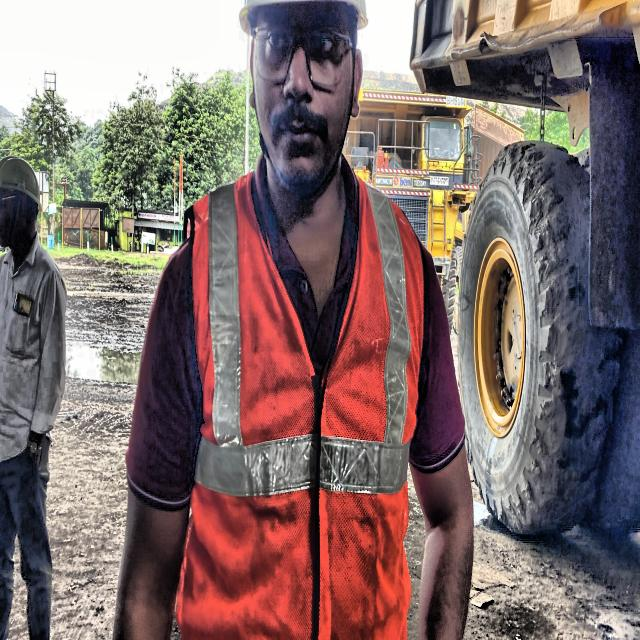safety_helmet: (230, 0, 380, 25)
safety_jacket: (191, 166, 419, 640), (0, 149, 47, 205)
